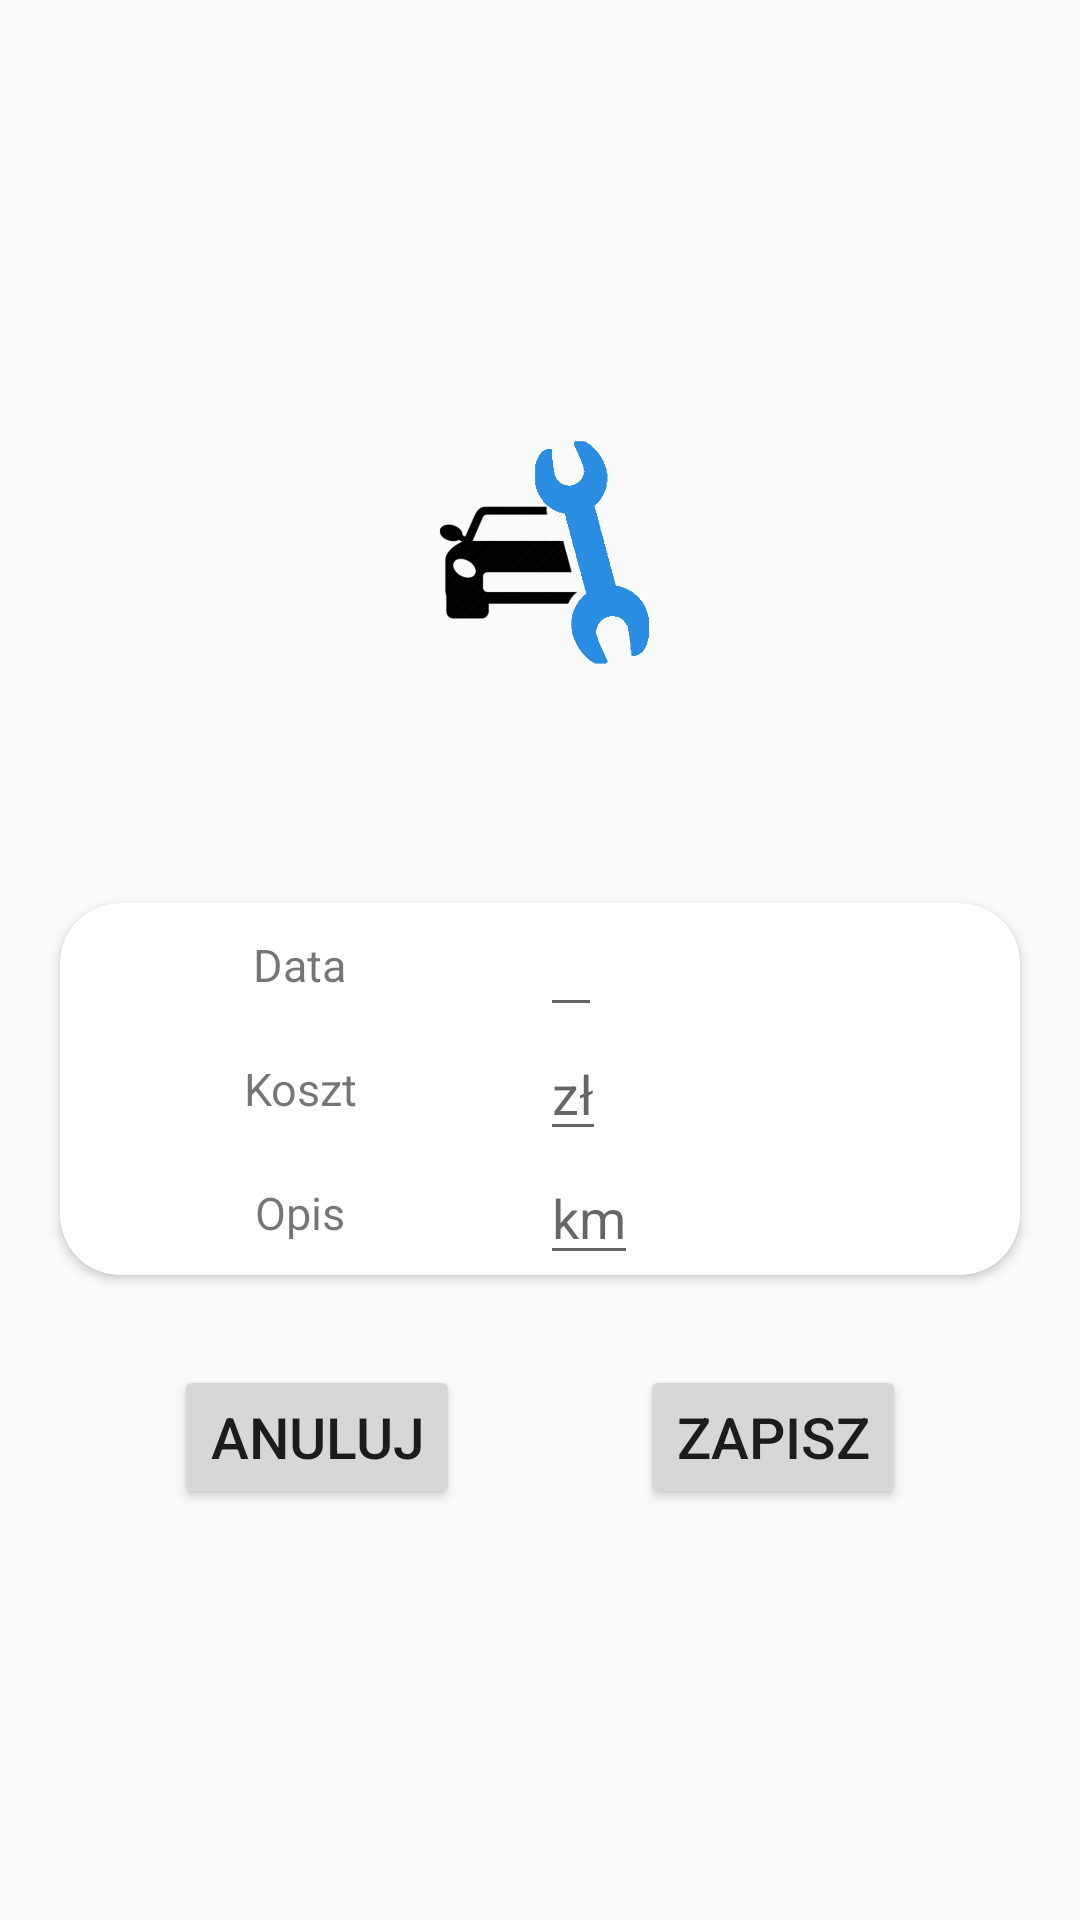

Locate icon controls on the screen. Image size 1080x1920, boxes as [left=x1, top=y1, right=x2, bottom=y2].
serwis: [left=440, top=441, right=649, bottom=664]
